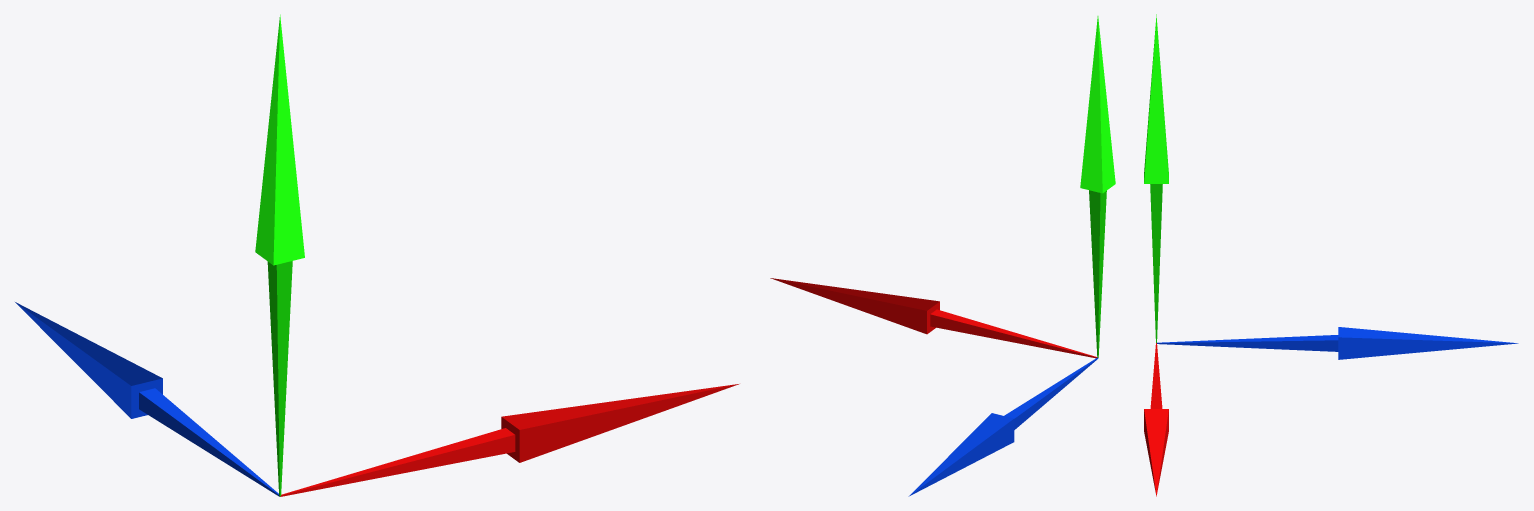
The model's file is coord arrows.FBX.
3 renders of one model, left to right at view 1: azimuth 30°, elevation 25°; view 2: azimuth 150°, elevation 25°; view 3: azimuth 270°, elevation 25°, orthographic. The views are drawn at different scales.
Parts seen in each view (by area): view 1: r; view 2: r; view 3: r.
Part boxes in pixels (bbox=[...]): r: bbox=[15, 14, 738, 496]; r: bbox=[770, 16, 1115, 496]; r: bbox=[1144, 14, 1518, 496].
Size of the model in its own units: 1.03 by 1.03 by 1.03.
